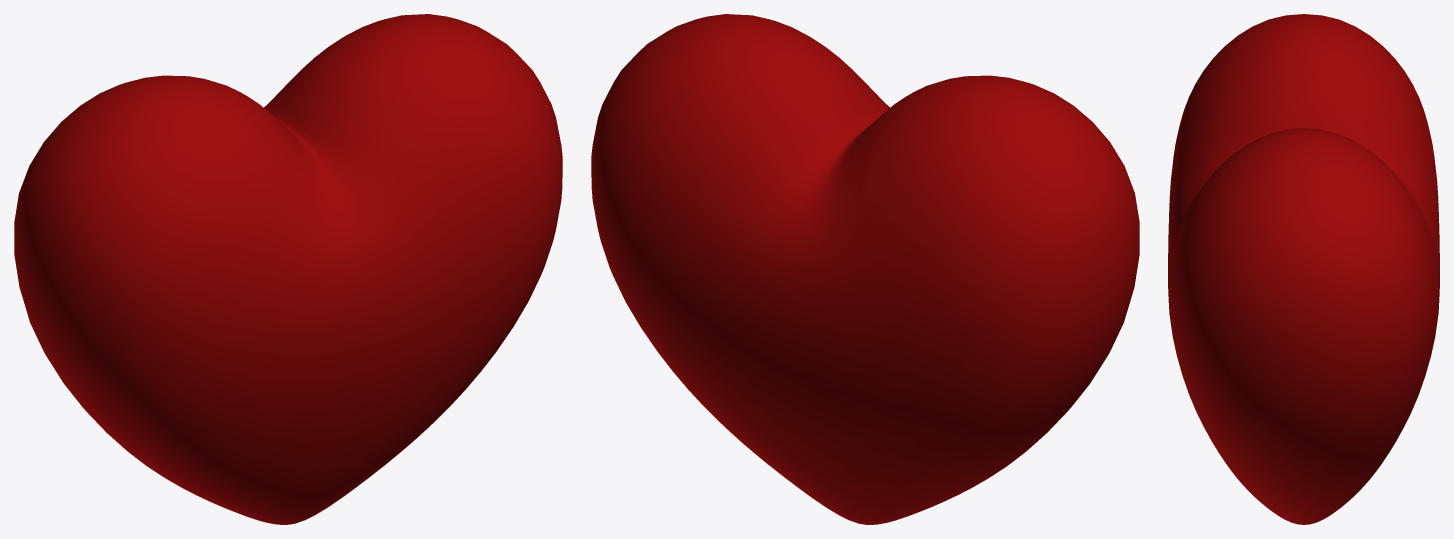
Rendered from beating-heart.v1.glb.
3 views of the same model, side by side, from view 1: azimuth 30°, elevation 25°; view 2: azimuth 150°, elevation 25°; view 3: azimuth 270°, elevation 25° (orthographic). The views are drawn at different scales.
Visible parts, largest first — view 1: BASE HEART_Material #41_0; view 2: BASE HEART_Material #41_0; view 3: BASE HEART_Material #41_0.
Part boxes in pixels (box(x1,y1,x2,y2)): BASE HEART_Material #41_0: box(14, 14, 562, 524); BASE HEART_Material #41_0: box(591, 14, 1139, 524); BASE HEART_Material #41_0: box(1168, 14, 1439, 524).
Size of the model in its own units: 85.81 by 74.83 by 42.25.
